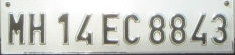character: (168, 12, 187, 45), (7, 11, 25, 45), (28, 11, 46, 45), (75, 13, 93, 46), (190, 13, 208, 45), (101, 12, 118, 45), (148, 13, 166, 44), (210, 12, 227, 44), (123, 12, 139, 45), (56, 11, 70, 44)
